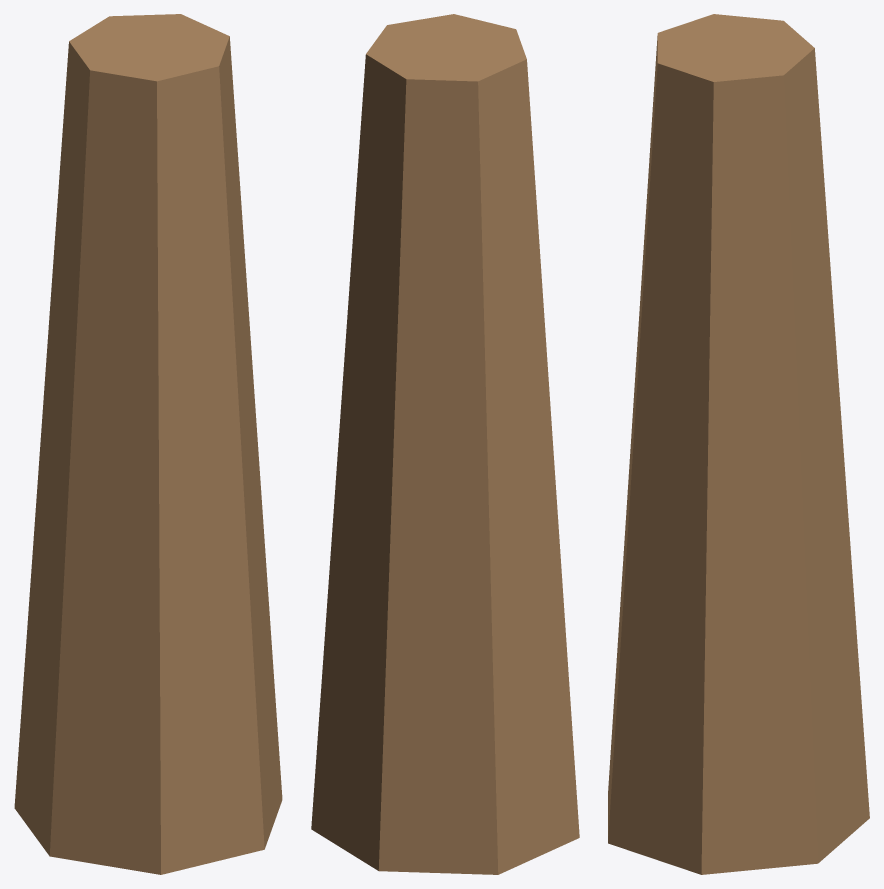
File: t7_tree_trunk.glb
The picture shows the model from 3 angles, left to right: view 1: azimuth 30°, elevation 25°; view 2: azimuth 150°, elevation 25°; view 3: azimuth 270°, elevation 25°; orthographic projection.
Parts seen in each view (by area): view 1: Trunk_Core; view 2: Trunk_Core; view 3: Trunk_Core.
Boxes of the visible parts, x1=… form: Trunk_Core: x1=14, y1=14, x2=282, y2=874; Trunk_Core: x1=311, y1=14, x2=579, y2=874; Trunk_Core: x1=608, y1=14, x2=869, y2=874.
Size of the model in its own units: 0.585 by 1.85 by 0.5703.
